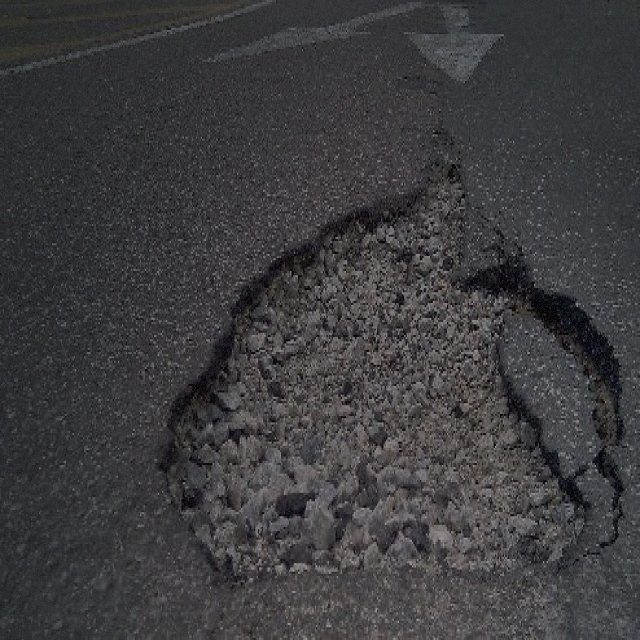pothole: (152, 138, 627, 586)
